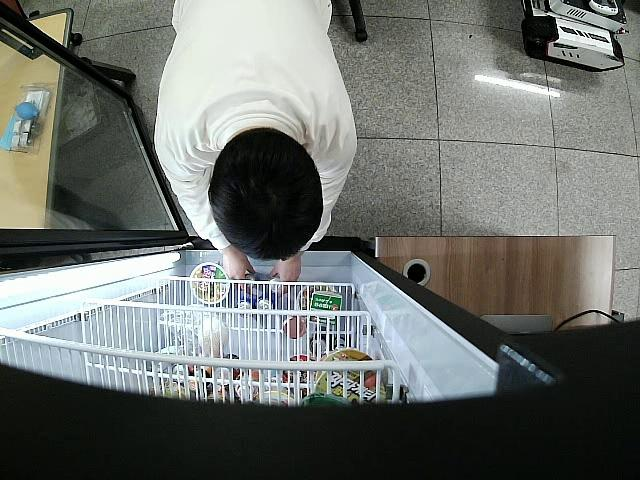00_hand: (221, 245, 256, 294), (266, 255, 302, 289)
15_letsbe: (266, 275, 285, 296)
